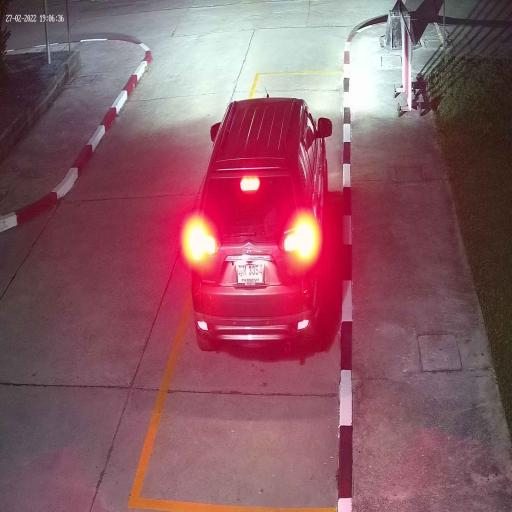car: (191, 96, 327, 354)
